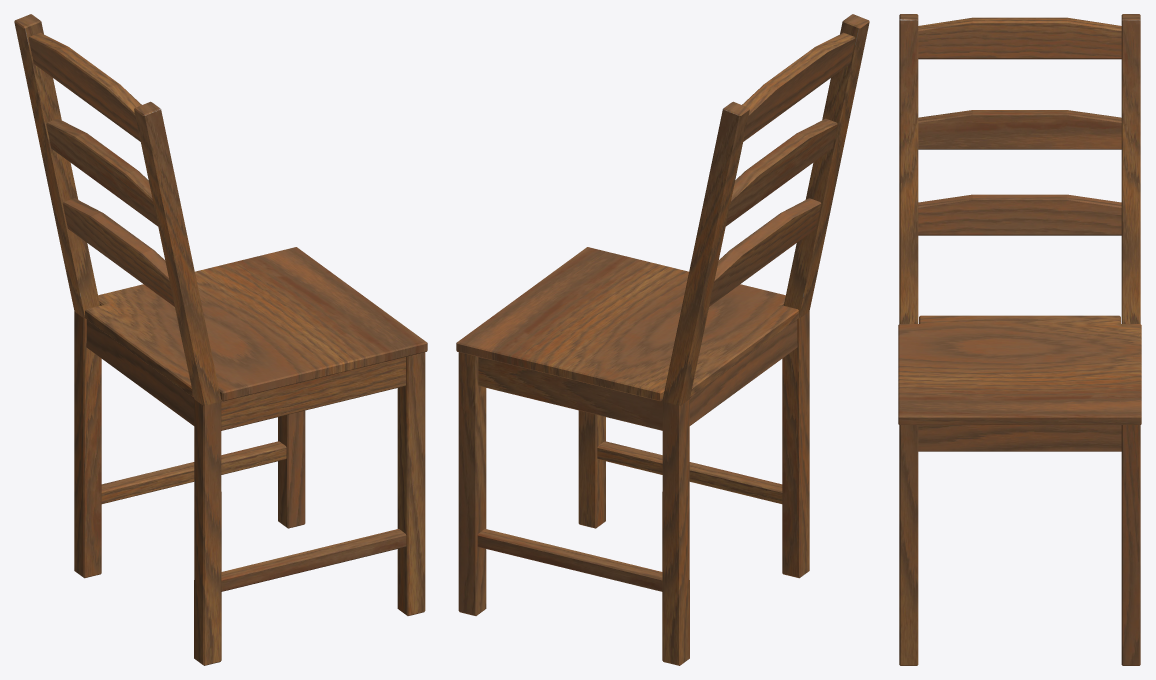
File: kresls2.glb
3 views of the same model, side by side, from view 1: azimuth 30°, elevation 25°; view 2: azimuth 150°, elevation 25°; view 3: azimuth 270°, elevation 25° (orthographic). The views are drawn at different scales.
Parts seen in each view (by area): view 1: Cube.009; view 2: Cube.009; view 3: Cube.009.
Boxes of the visible parts, box(x1,y1,x2,y2) form: Cube.009: box(14, 14, 427, 665); Cube.009: box(456, 14, 869, 665); Cube.009: box(898, 14, 1141, 665).
Bounding box in the file's own units: 0.5034 × 0.963 × 0.4031.
Materials: 1 (1 with a texture image).
